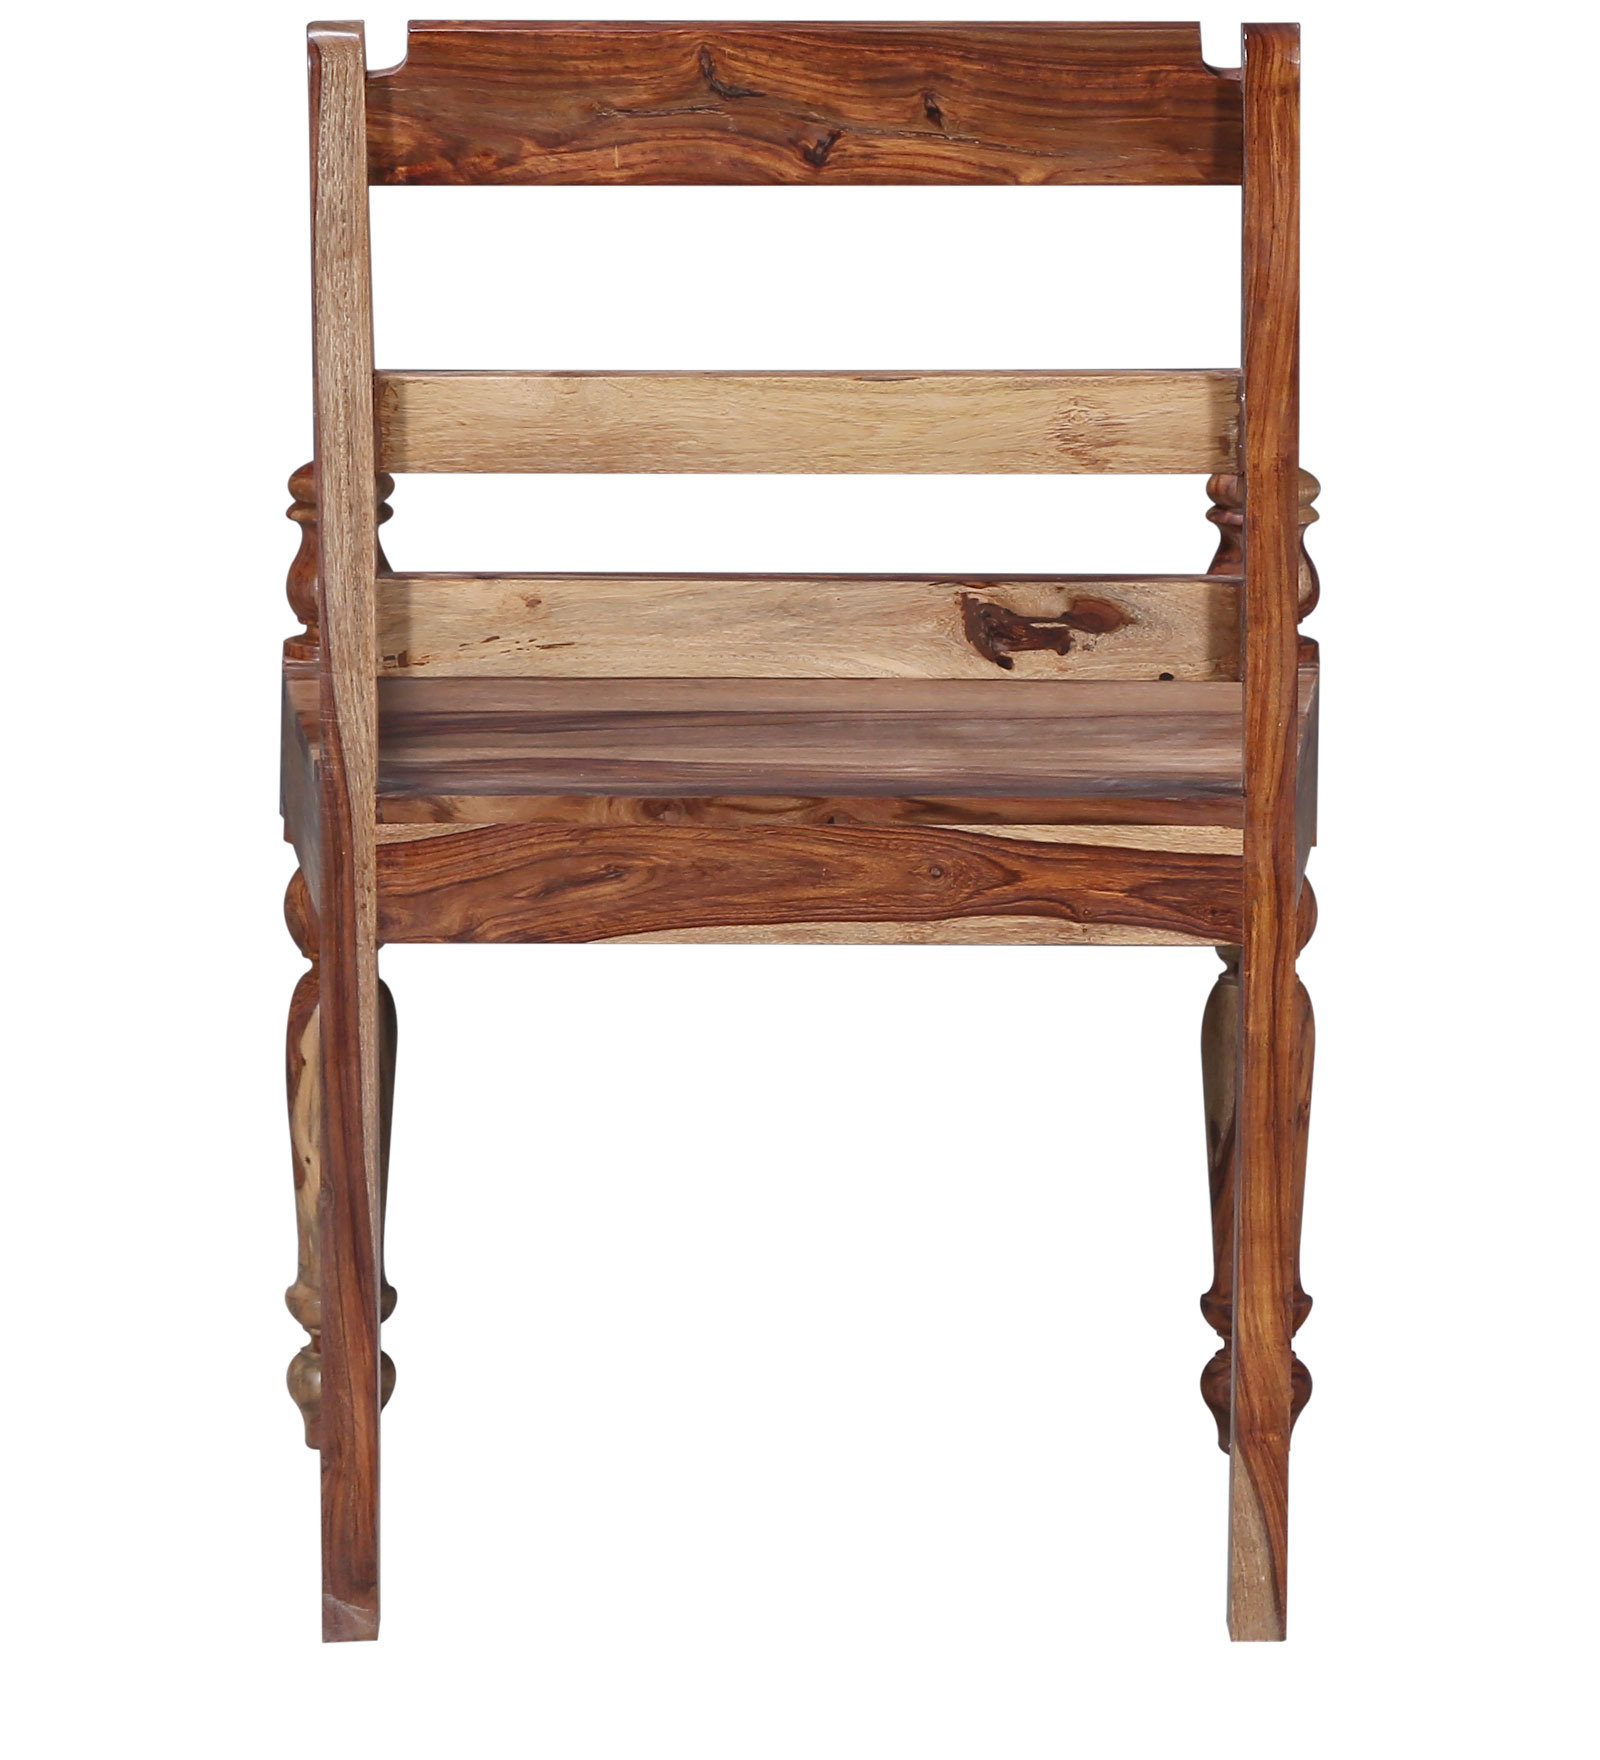Maud Arm Chair in Natural Sheesham Finish by Amberville: (261, 8, 1344, 1650)
